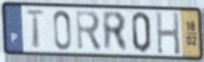0: (130, 10, 153, 55), (52, 9, 73, 52)
H: (155, 10, 182, 57)
R: (74, 9, 103, 54), (101, 10, 130, 54)
T: (24, 8, 46, 50)
